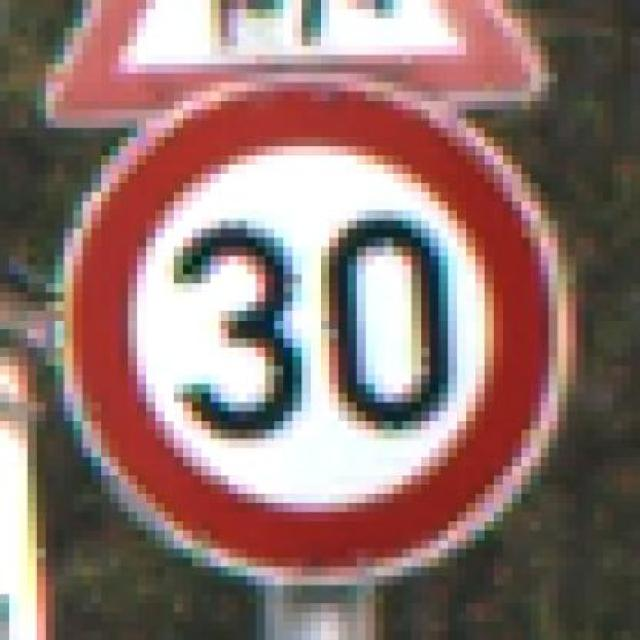Speed Limit 30 KMPh: (27, 54, 604, 586)
